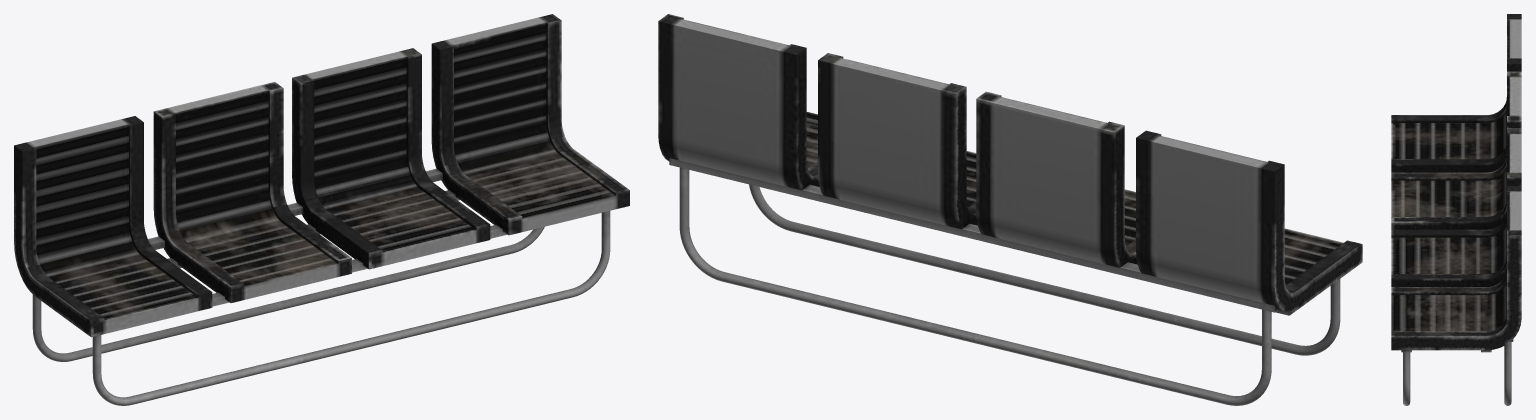
Rendered from SM_chair_group.glb.
The picture shows the model from 3 angles, left to right: view 1: azimuth 30°, elevation 25°; view 2: azimuth 150°, elevation 25°; view 3: azimuth 270°, elevation 25°; orthographic projection. The views are drawn at different scales.
Parts seen in each view (by area): view 1: SM_chair_group; view 2: SM_chair_group; view 3: SM_chair_group.
Part boxes in pixels (x1,y1,x2,y2): SM_chair_group: (14, 14, 629, 405); SM_chair_group: (658, 14, 1362, 405); SM_chair_group: (1391, 14, 1521, 405).
Size of the model in its own units: 2.89 by 1.13 by 0.715.
Materials: 1 (1 with a texture image).
